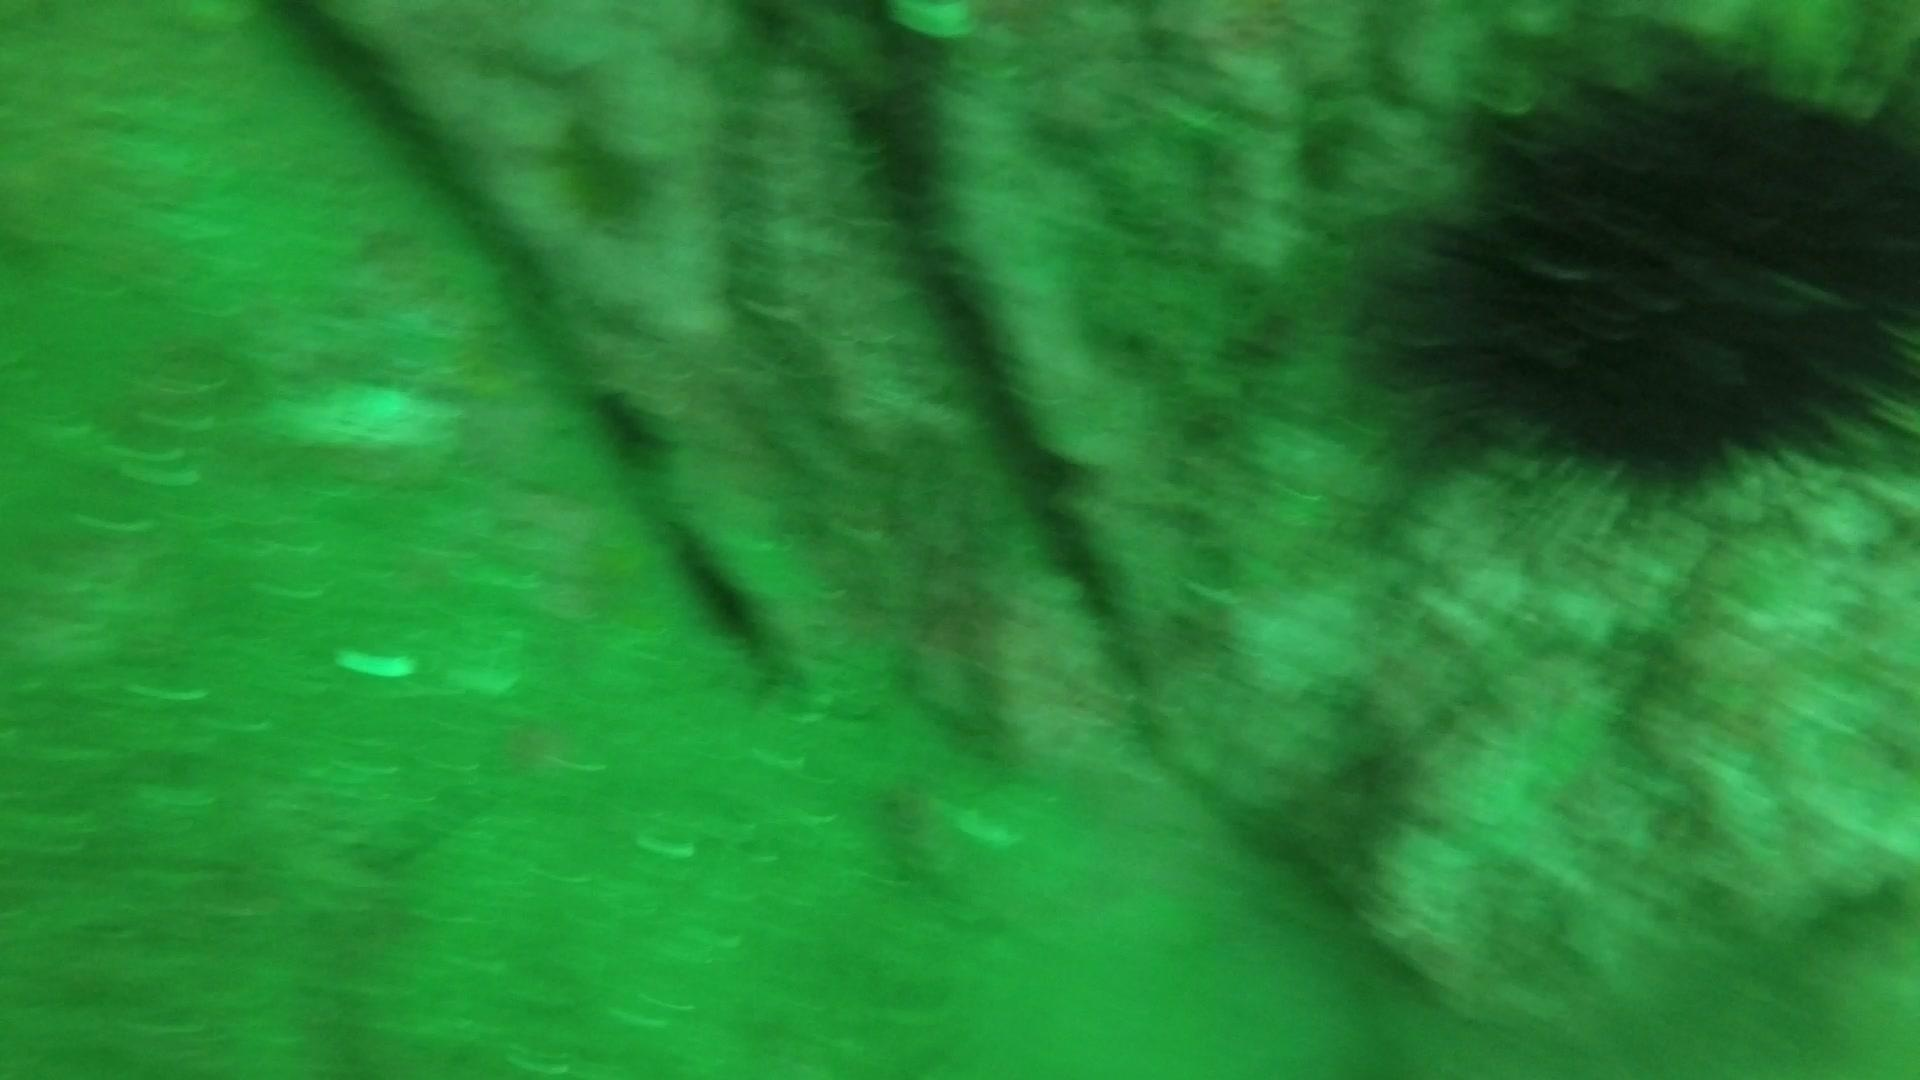echinus: (1364, 24, 1917, 517)
